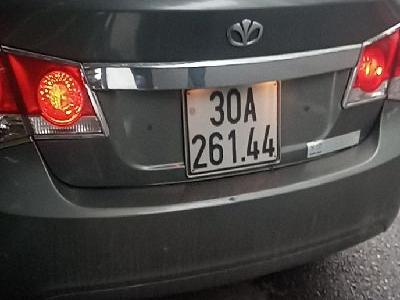lisence: (180, 80, 283, 179)
